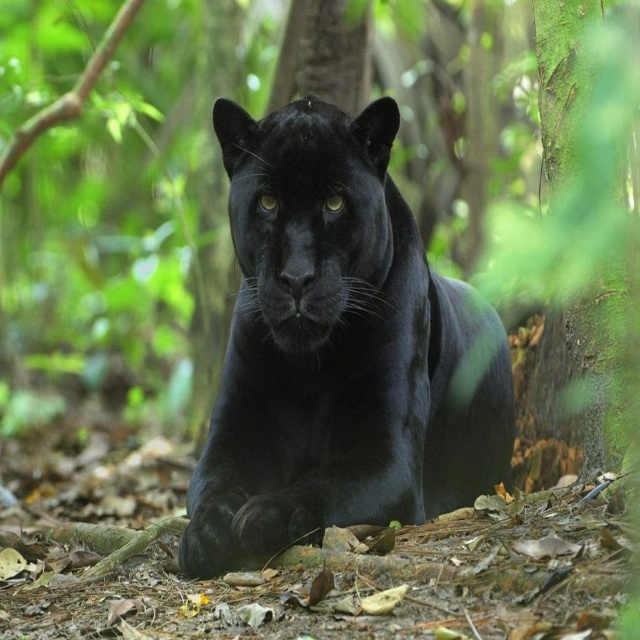Jaguar: (177, 96, 517, 575)
